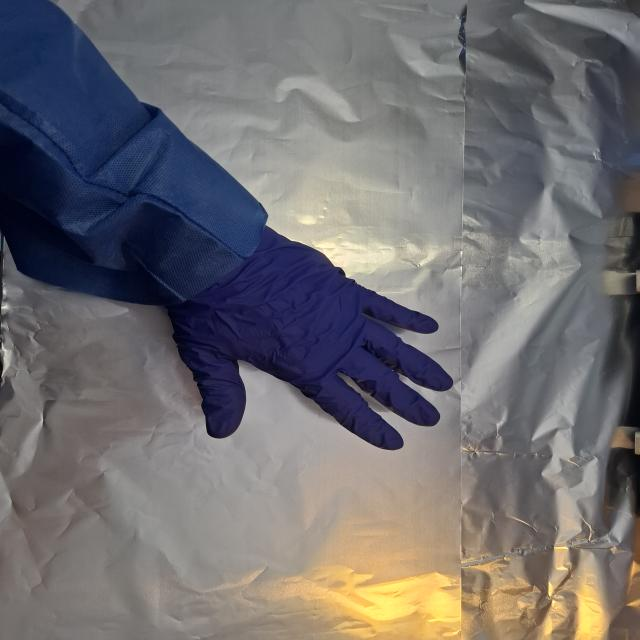glove_on: (164, 224, 457, 453)
